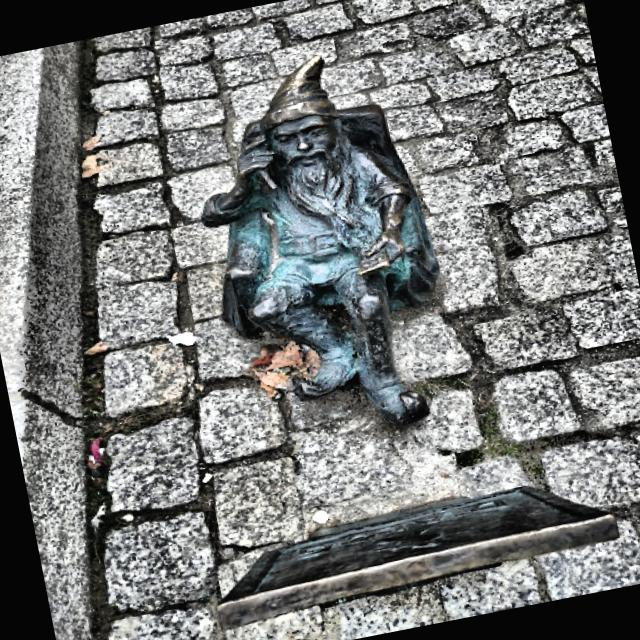Dialogomir: (203, 59, 442, 427), (219, 487, 620, 630)
